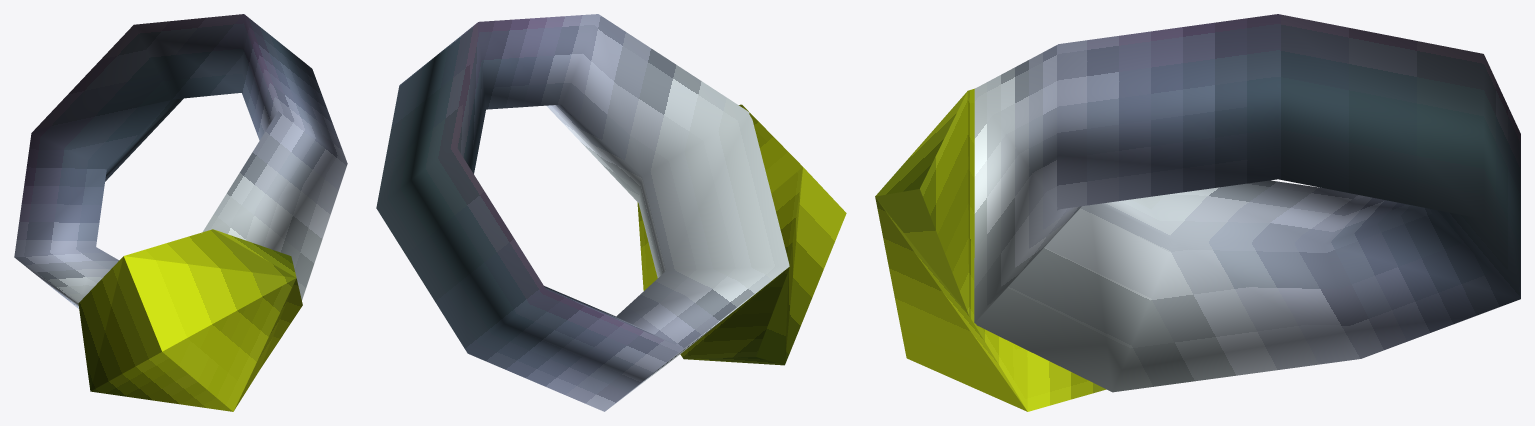
File: MagicRing00.glb
3 renders of one model, left to right at view 1: azimuth 30°, elevation 25°; view 2: azimuth 150°, elevation 25°; view 3: azimuth 270°, elevation 25°, orthographic. The views are drawn at different scales.
Visible parts, largest first — view 1: model_MagicRing00; view 2: model_MagicRing00; view 3: model_MagicRing00.
Part boxes in pixels (x1,y1,x2,y2): model_MagicRing00: (14,14,347,411); model_MagicRing00: (376,14,846,411); model_MagicRing00: (875,14,1520,411).
Bounding box in the file's own units: 0.2135 × 0.2133 × 0.2653.
Materials: 2 (2 with a texture image).
